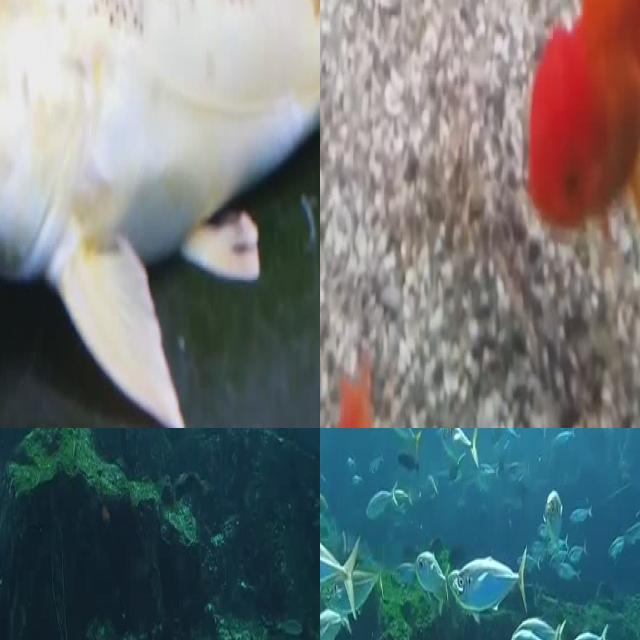fish: (0, 0, 320, 428), (506, 0, 640, 268), (454, 548, 530, 606)
